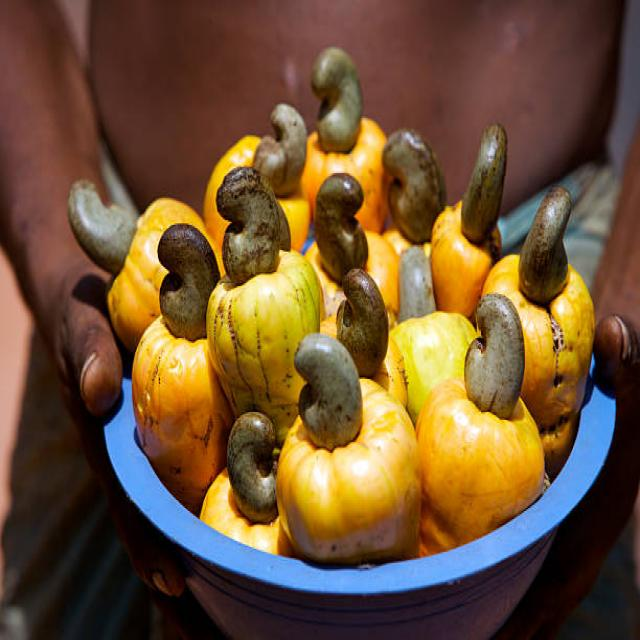cashew: (458, 299, 536, 420), (218, 404, 292, 530), (220, 173, 304, 272), (158, 207, 225, 330), (518, 170, 575, 302), (74, 168, 140, 278), (390, 113, 445, 243), (467, 118, 517, 238), (250, 97, 326, 174), (336, 265, 392, 356), (311, 46, 366, 138)
